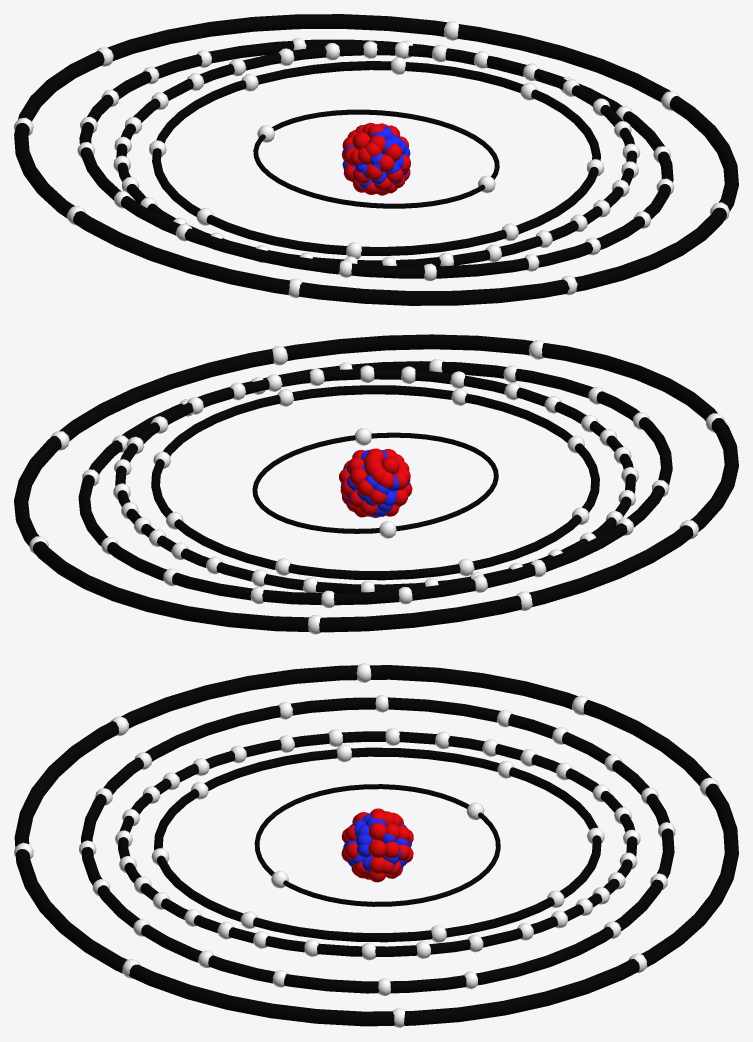
Rendered from 54 Xenón.fbx.
The picture shows the model from 3 angles, top to bottom: view 1: azimuth 30°, elevation 25°; view 2: azimuth 150°, elevation 25°; view 3: azimuth 270°, elevation 25°; orthographic projection.
Parts seen in each view (by area): view 1: Orbita.005, Orbita.004, Orbita.002, Orbita.003, Electron.111, Orbita.001; view 2: Orbita.005, Orbita.004, Orbita.002, Orbita.003, Electron.111, Orbita.001; view 3: Orbita.005, Orbita.004, Orbita.003, Orbita.002, Electron.111, Orbita.001.
Boxes of the visible parts, box(x1,y1,x2,y2) form: Orbita.005: box(14, 14, 738, 305); Orbita.004: box(79, 39, 673, 278); Orbita.002: box(152, 61, 600, 256); Orbita.003: box(116, 44, 636, 266); Electron.111: box(342, 122, 410, 195); Orbita.001: box(253, 109, 499, 208); Orbita.005: box(14, 334, 738, 632); Orbita.004: box(78, 361, 672, 605); Orbita.002: box(151, 385, 599, 580); Orbita.003: box(115, 369, 635, 592); Electron.111: box(339, 448, 412, 517); Orbita.001: box(252, 432, 498, 533); Orbita.005: box(14, 665, 738, 1026); Orbita.004: box(81, 697, 674, 993); Orbita.003: box(118, 731, 637, 956); Orbita.002: box(154, 747, 601, 942); Electron.111: box(341, 808, 413, 882); Orbita.001: box(254, 784, 500, 906).
Bounding box in the file's own units: 27.5 × 27.46 × 2.85.
